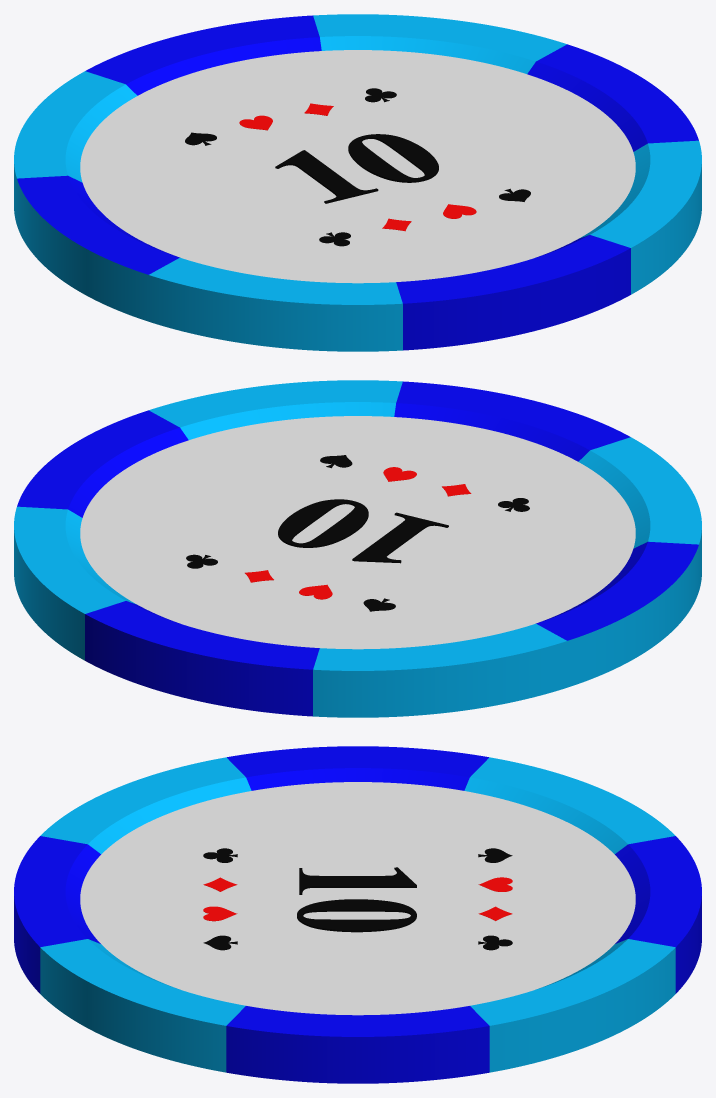
File: Value10Chip.fbx
3 views of the same model, one above another, from view 1: azimuth 30°, elevation 25°; view 2: azimuth 150°, elevation 25°; view 3: azimuth 270°, elevation 25° (orthographic).
Parts seen in each view (by area): view 1: Base, Value01; view 2: Base, Value01; view 3: Base, Value01.
Boxes of the visible parts, x1,y1,x2,y2 form: Base: (14, 14, 701, 351); Value01: (275, 134, 438, 203); Base: (14, 380, 701, 717); Value01: (278, 499, 448, 563); Base: (14, 746, 701, 1083); Value01: (297, 867, 416, 932).
Size of the model in its own units: 80 by 6 by 80.
